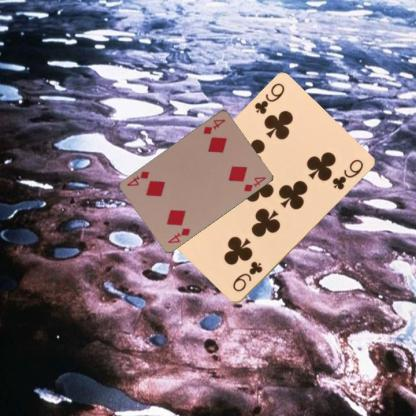4d: (200, 116, 226, 135), (165, 226, 191, 244)
9c: (230, 258, 264, 294), (252, 80, 286, 116)
